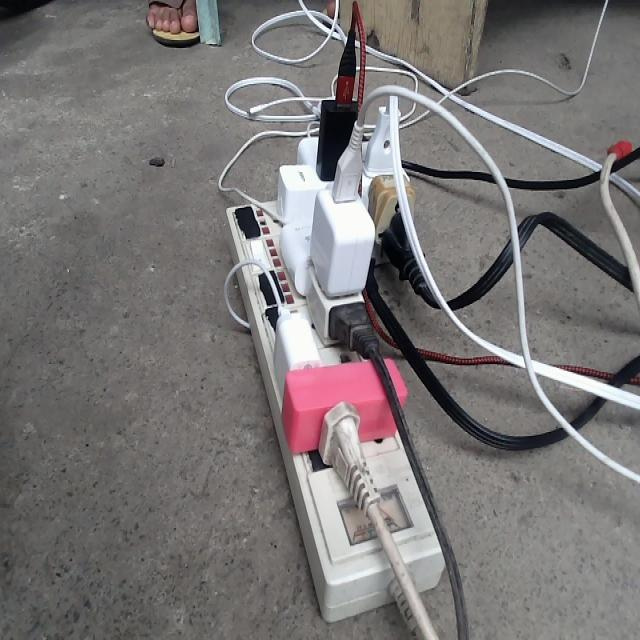-: (224, 28, 444, 620)
